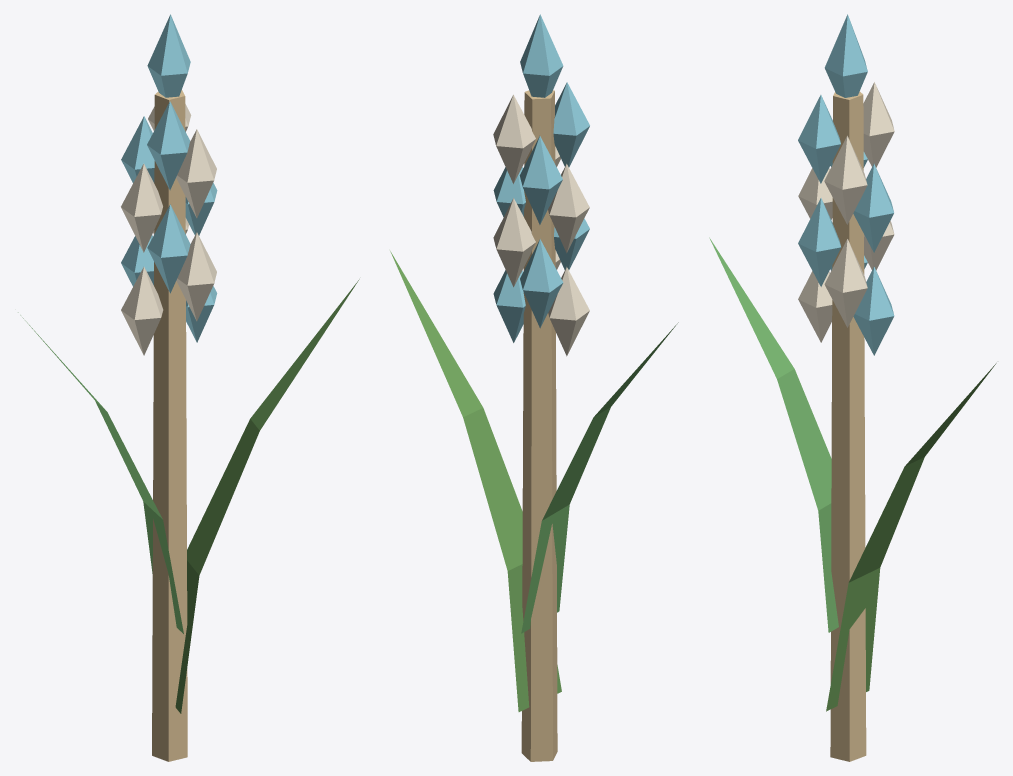
The model's file is deco_wheat.obj.
3 views of the same model, side by side, from view 1: azimuth 30°, elevation 25°; view 2: azimuth 150°, elevation 25°; view 3: azimuth 330°, elevation 25° (orthographic).
Visible parts, largest first — view 1: deco_wheat; view 2: deco_wheat; view 3: deco_wheat.
Boxes of the visible parts, bbox=[...] form: deco_wheat: bbox=[18, 14, 359, 761]; deco_wheat: bbox=[390, 14, 678, 761]; deco_wheat: bbox=[709, 14, 996, 761].
Size of the model in its own units: 0.0252 by 0.056 by 0.0067.
Materials: 1 (1 with a texture image).
